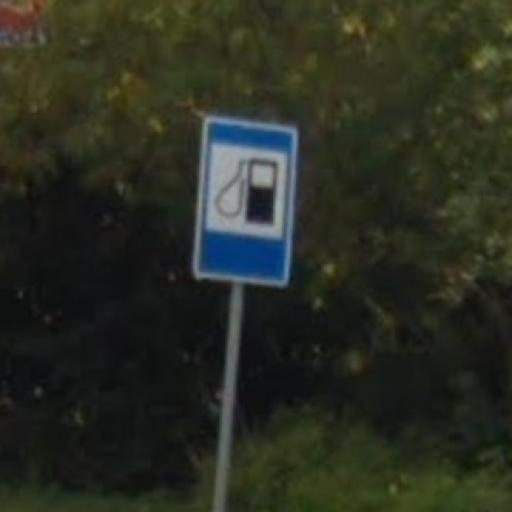traffic_sign: (192, 114, 300, 291)
